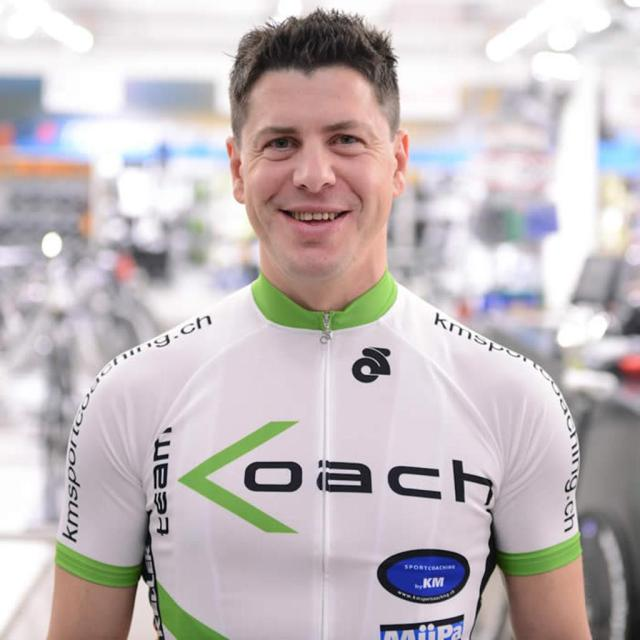Face: (229, 59, 417, 281)
